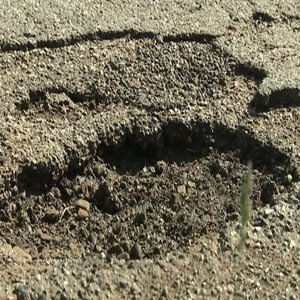pothole: (4, 123, 300, 255)
